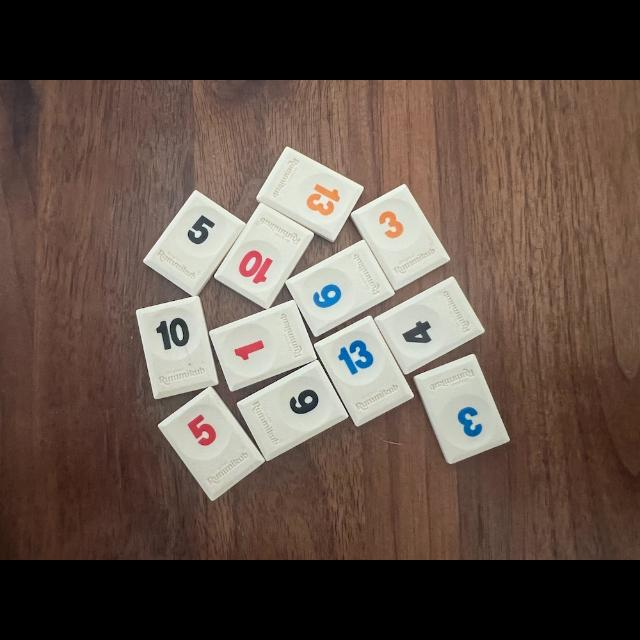black_10: (137, 296, 219, 399)
black_4: (375, 276, 484, 374)
black_5: (144, 190, 245, 295)
black_9: (238, 361, 348, 460)
blue_13: (315, 318, 414, 426)
blue_3: (414, 354, 510, 464)
blue_6: (286, 240, 394, 336)
orange_13: (256, 146, 364, 241)
orange_3: (351, 185, 450, 290)
red_1: (210, 300, 316, 391)
red_10: (216, 204, 314, 309)
red_5: (159, 388, 265, 500)
